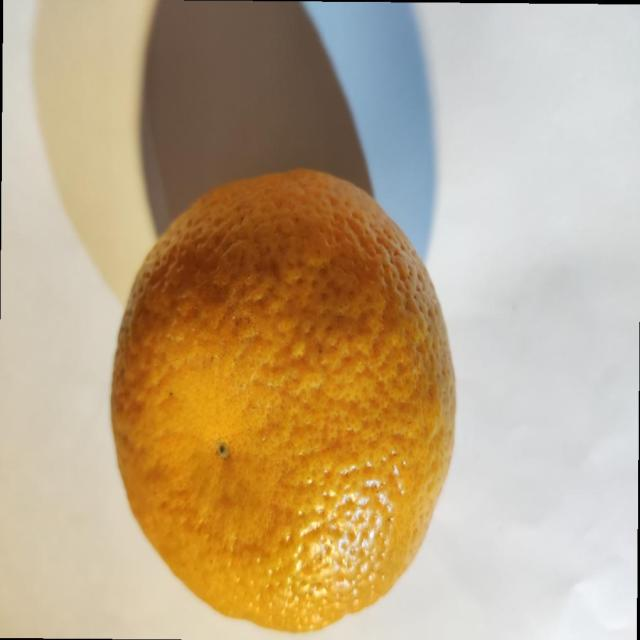fresh orange: (109, 167, 458, 632)
